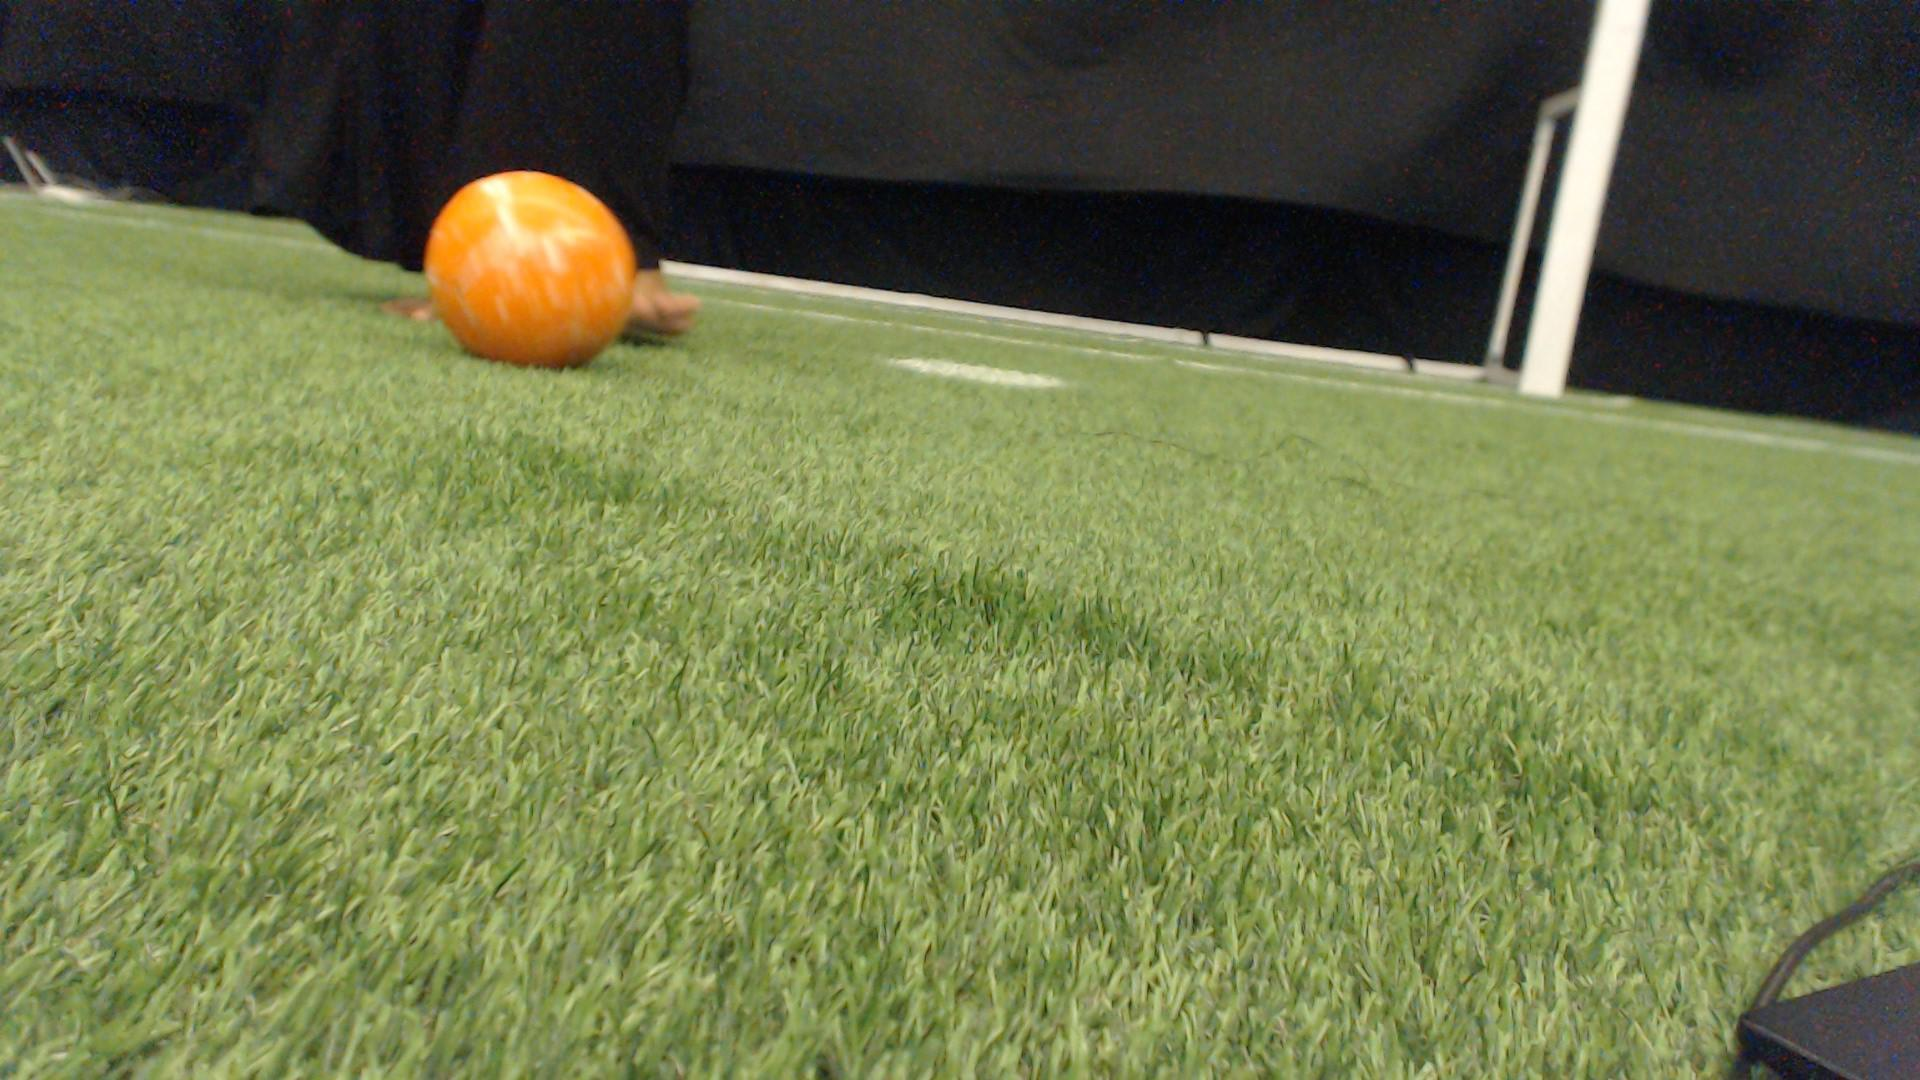bola: (407, 162, 658, 375)
